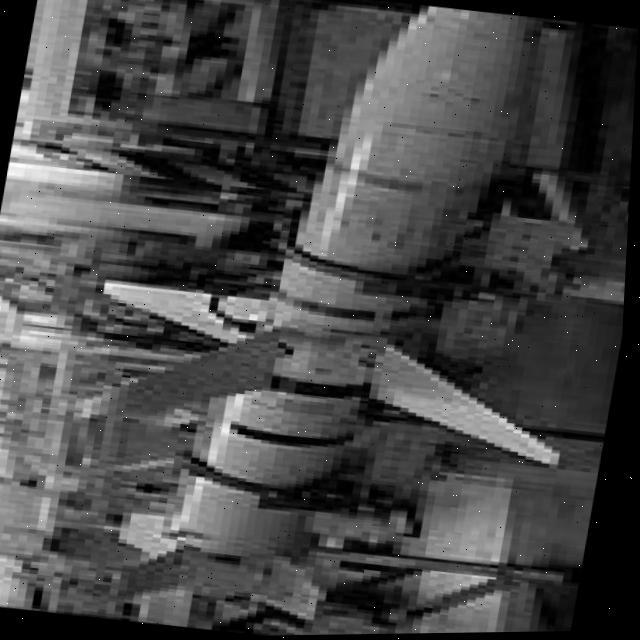missile: (54, 0, 640, 639)
